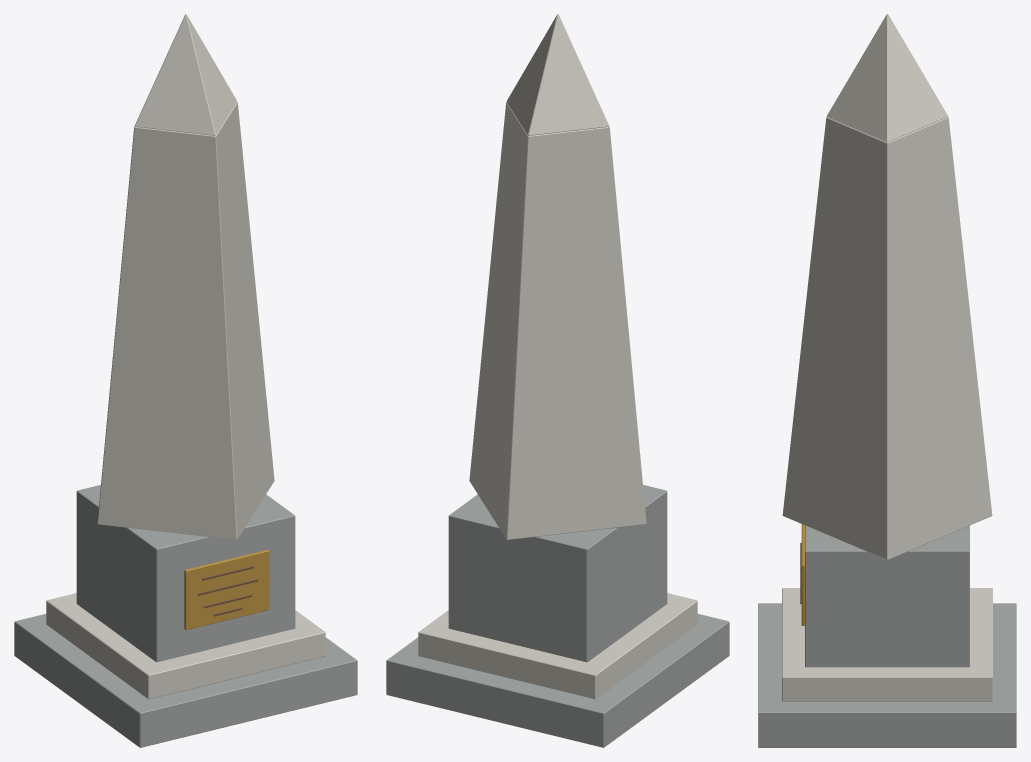
File: b18_granite_civic_obelisk.glb
3 views of the same model, side by side, from view 1: azimuth 30°, elevation 25°; view 2: azimuth 150°, elevation 25°; view 3: azimuth 270°, elevation 25° (orthographic). The views are drawn at different scales.
Parts seen in each view (by area): view 1: b18_granite_civic_obelisk; view 2: b18_granite_civic_obelisk; view 3: b18_granite_civic_obelisk.
Part boxes in pixels (x1,y1,x2,y2): b18_granite_civic_obelisk: (14, 14, 357, 747); b18_granite_civic_obelisk: (386, 14, 729, 747); b18_granite_civic_obelisk: (758, 14, 1016, 747).
Bounding box in the file's own units: 1.3 × 3.77 × 1.3.
